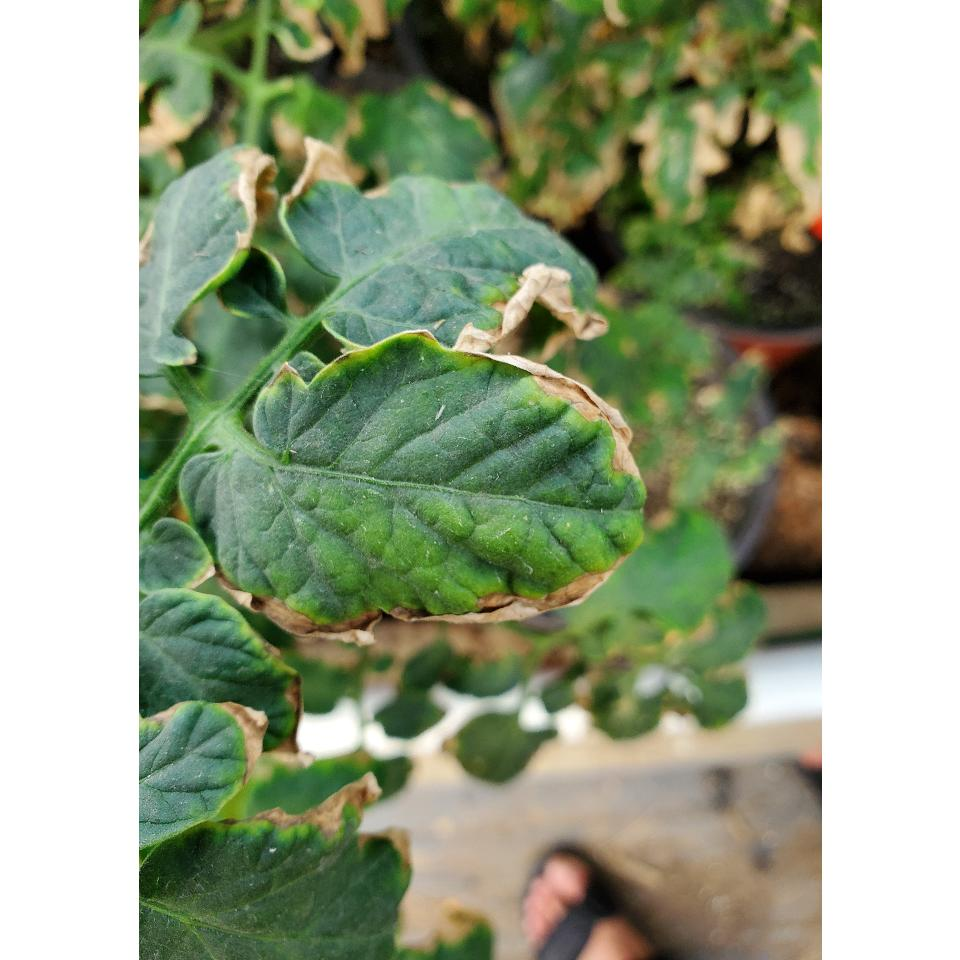tomato_bacterial_blight: (180, 332, 660, 648), (270, 135, 638, 349)
